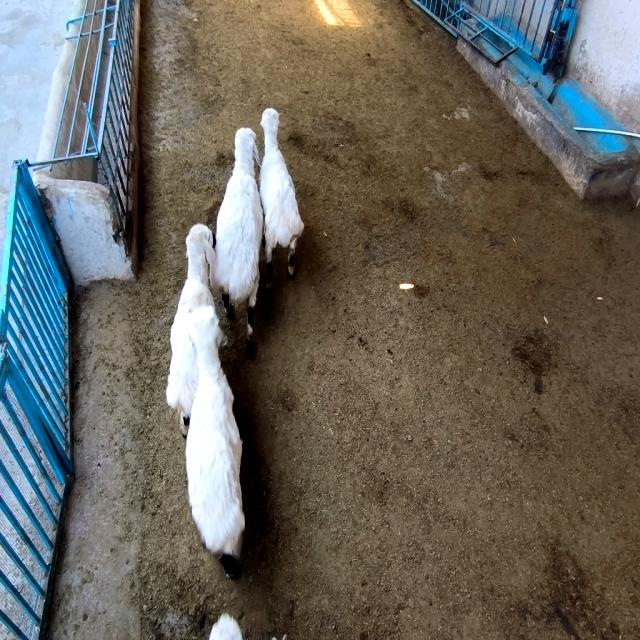sheep: (186, 307, 245, 558), (211, 128, 264, 356), (166, 223, 216, 437), (260, 108, 304, 304)
